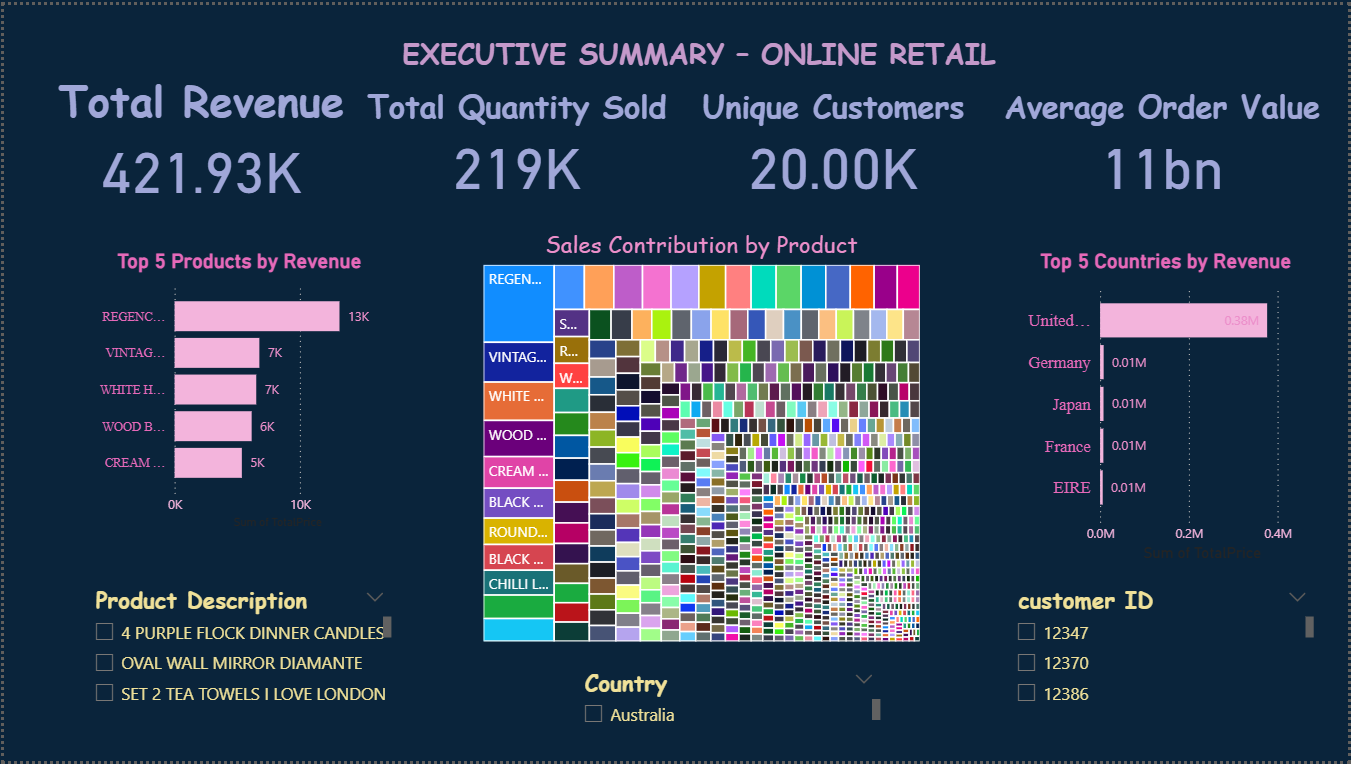

The dashboard page shown, as its layout file describes it:
{"tool":"powerbi","page":{"name":"Page 1","canvas":[1280,720],"ordinal":0},"visuals":[{"type":"textbox","title":"EXECUTIVE SUMMARY – ONLINE RETAIL","box":[374,27.8,581.4,279.6],"z":0},{"type":"card","title":"Total Revenue","fields":{"Values":["Sum(subset_25mb_or_less.TotalPrice)"]},"box":[37,63,301.8,124.1],"z":1000},{"type":"card","title":"Total Quantity Sold","fields":{"Values":["Sum(subset_25mb_or_less.Quantity)"]},"box":[338.8,75.9,299.9,105.5],"z":2000},{"type":"card","title":"Unique Customers","fields":{"Values":["CountNonNull(subset_25mb_or_less.Customer ID)"]},"box":[640.6,75.9,299.9,105.5],"z":3000},{"type":"card","title":"Average Order Value","fields":{"Values":["Sum(subset_25mb_or_less.Invoice)"]},"box":[927.6,75.9,351.8,105.5],"z":4000},{"type":"clusteredBarChart","title":"Top 5 Countries by Revenue","fields":{"Category":["subset_25mb_or_less.Country"],"Y":["Sum(subset_25mb_or_less.TotalPrice)"]},"box":[955.4,233.3,301.8,301.8],"z":5000},{"type":"clusteredBarChart","title":"Top 5 Products by Revenue","fields":{"Category":["subset_25mb_or_less.Description"],"Y":["Sum(subset_25mb_or_less.TotalPrice)"]},"box":[74.1,233.3,299.9,270.3],"z":6000},{"type":"treemap","title":"Sales Contribution by Product","fields":{"Values":["Sum(subset_25mb_or_less.TotalPrice)"],"Group":["subset_25mb_or_less.Description"]},"box":[451.8,212.9,425.8,398.1],"z":7000},{"type":"slicer","fields":{"Values":["subset_25mb_or_less.Country"]},"box":[540.6,624,299.9,68.5],"z":8000},{"type":"slicer","fields":{"Values":["subset_25mb_or_less.Description"]},"box":[74.1,546.2,299.9,129.6],"z":9000},{"type":"slicer","fields":{"Values":["subset_25mb_or_less.Customer ID"]},"box":[953.5,546.2,299.9,129.6],"z":10000}]}

Visuals, with their boxes in screenshot pixels (x1, y1, x2, y2), scaled from the page's 1280x720 canvas onto the 1351x764 screenshot:
"EXECUTIVE SUMMARY – ONLINE RETAIL" textbox: 395,29,1008,326
"Total Revenue" card: 39,67,358,199
"Total Quantity Sold" card: 358,81,674,192
"Unique Customers" card: 676,81,993,192
"Average Order Value" card: 979,81,1350,192
"Top 5 Countries by Revenue" clusteredBarChart: 1008,248,1327,568
"Top 5 Products by Revenue" clusteredBarChart: 78,248,395,534
"Sales Contribution by Product" treemap: 477,226,926,648
slicer - subset_25mb_or_less.Country: 571,662,887,735
slicer - subset_25mb_or_less.Description: 78,580,395,717
slicer - subset_25mb_or_less.Customer ID: 1006,580,1323,717
